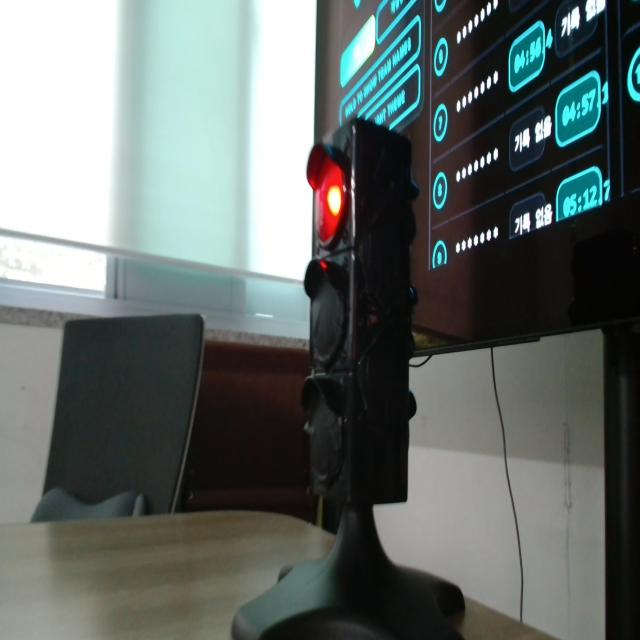red_light: (307, 145, 347, 245)
